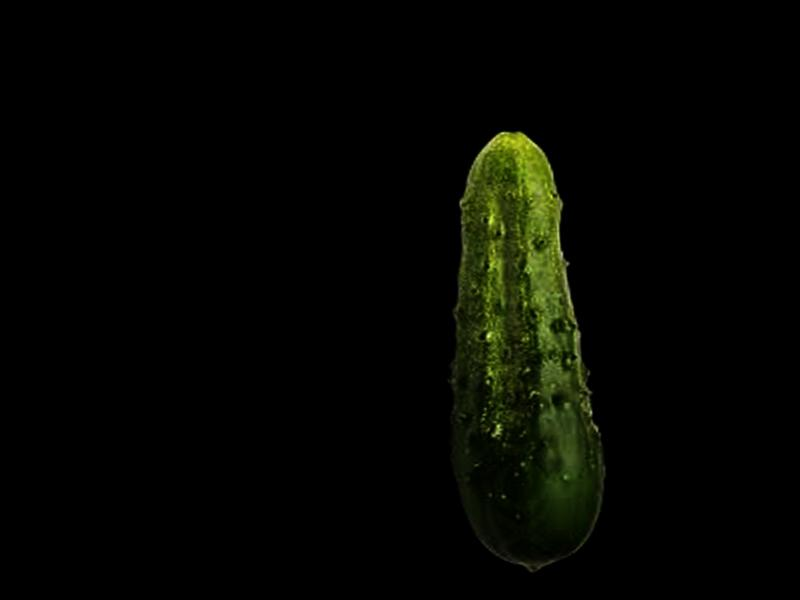Cucumber: (426, 127, 611, 577)
